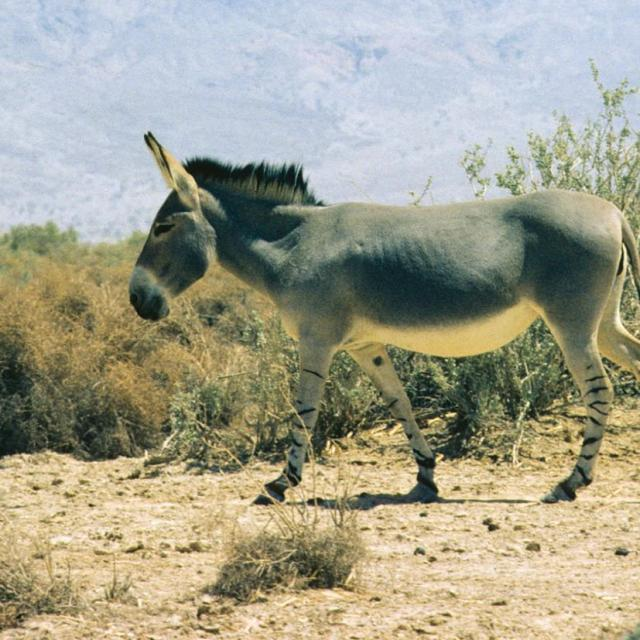donkey: (128, 135, 639, 503)
